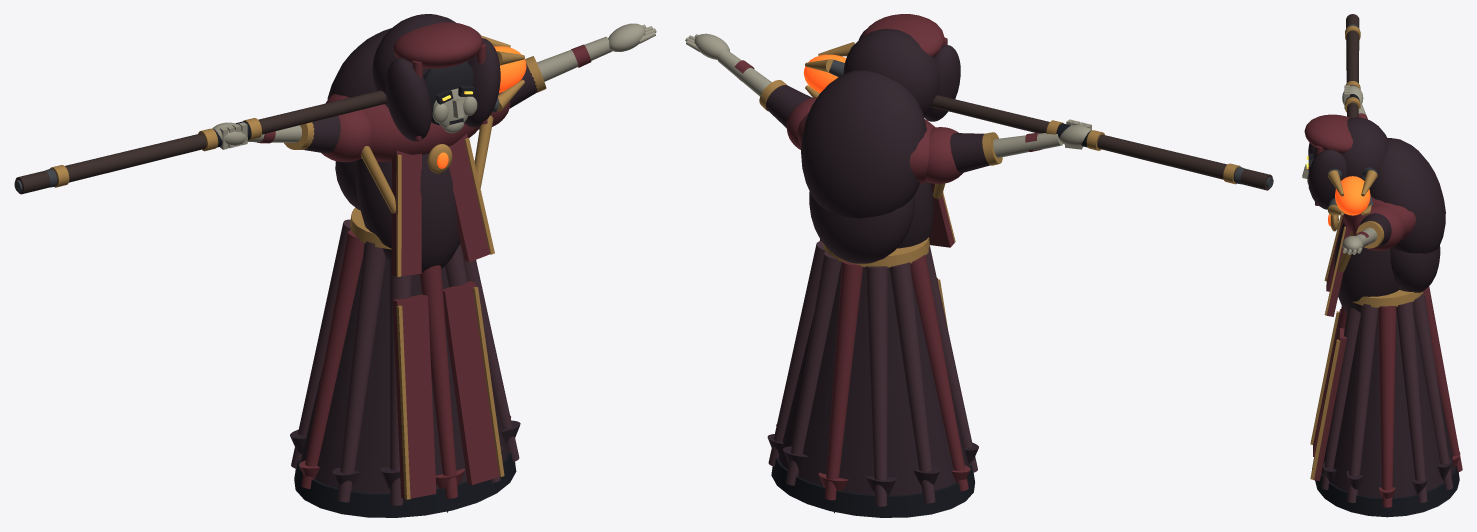
File: FSA_ENEMY_C003_FlameWitch.glb
The picture shows the model from 3 angles, left to right: view 1: azimuth 30°, elevation 25°; view 2: azimuth 150°, elevation 25°; view 3: azimuth 270°, elevation 25°; orthographic projection. The views are drawn at different scales.
Visible parts, largest first — view 1: Robe_Skirt, Skirt_Stole_1, Skirt_Stole_-1, Robe_Torso, Staff_Shaft, Robe_Fold_10, Robe_Hem, Robe_Fold_9, Robe_Fold_0, Chest_Stole_-1, Hood_Crown, Hood_Side_-1 (+19 smaller); view 2: Robe_Skirt, Hunched_Back, Hood_Back, Staff_Shaft, Mantle_Back_Drape, Robe_Hem, Robe_Fold_7, Robe_Fold_8, Robe_Fold_6, Robe_Fold_5, Robe_Fold_9, Robe_Fold_4 (+13 smaller); view 3: Robe_Skirt, Hunched_Back, Robe_Fold_3, Robe_Fold_4, Robe_Torso, Robe_Fold_2, Robe_Hem, Robe_Fold_5, Hood_Back, Robe_Fold_1, Mantle_Back_Drape, Robe_Fold_6 (+21 smaller).
Part boxes in pixels (<box>): Robe_Skirt: <box>301,258,508,493</box>; Skirt_Stole_1: <box>443,281,499,484</box>; Skirt_Stole_-1: <box>392,294,436,499</box>; Robe_Torso: <box>355,153,460,274</box>; Staff_Shaft: <box>15,90,387,194</box>; Robe_Fold_10: <box>337,241,385,502</box>; Robe_Hem: <box>294,453,516,517</box>; Robe_Fold_9: <box>301,230,364,488</box>; Robe_Fold_0: <box>420,265,457,498</box>; Chest_Stole_-1: <box>391,150,421,276</box>; Hood_Crown: <box>393,22,482,68</box>; Hood_Side_-1: <box>385,58,431,141</box>; Robe_Skirt: <box>778,262,968,495</box>; Hunched_Back: <box>801,70,926,218</box>; Hood_Back: <box>843,28,939,116</box>; Staff_Shaft: <box>931,95,1272,190</box>; Mantle_Back_Drape: <box>809,191,915,263</box>; Robe_Hem: <box>771,458,975,517</box>; Robe_Fold_7: <box>865,266,887,506</box>; Robe_Fold_8: <box>889,262,935,503</box>; Robe_Fold_6: <box>824,261,862,500</box>; Robe_Fold_5: <box>785,251,841,485</box>; Robe_Fold_9: <box>910,254,968,491</box>; Robe_Fold_4: <box>768,241,825,466</box>; Robe_Skirt: <box>1321,310,1454,498</box>; Hunched_Back: <box>1369,138,1445,253</box>; Robe_Fold_3: <box>1378,305,1396,507</box>; Robe_Fold_4: <box>1396,301,1427,502</box>; Robe_Torso: <box>1334,222,1399,312</box>; Robe_Fold_2: <box>1347,304,1378,502</box>; Robe_Hem: <box>1315,465,1459,517</box>; Robe_Fold_5: <box>1413,294,1453,489</box>; Hood_Back: <box>1341,117,1388,188</box>; Robe_Fold_1: <box>1321,307,1360,489</box>; Mantle_Back_Drape: <box>1390,245,1440,292</box>; Robe_Fold_6: <box>1423,286,1462,472</box>.
Size of the model in its own units: 2.91 by 2.09 by 0.8353.
